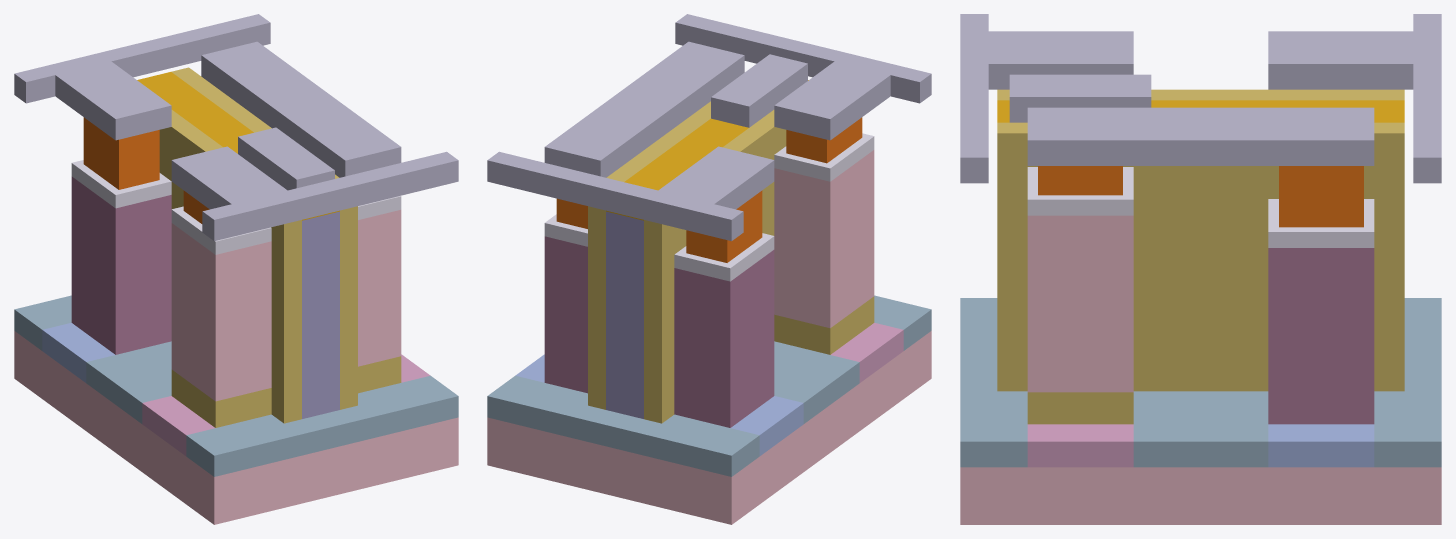
Rendered from inv_ns-sige.obj.
3 renders of one model, left to right at view 1: azimuth 30°, elevation 25°; view 2: azimuth 150°, elevation 25°; view 3: azimuth 270°, elevation 25°, orthographic. The views are drawn at different scales.
Visible parts, largest first — view 1: n_substrate, n_epi_source, p_epi_source, n_sti, m1_vss, m1_vdd, m1_out, n_mo, n_epi_drain, n_spacer_source, p_substrate, p_sti (+14 smaller); view 2: p_substrate, p_epi_source, n_epi_source, p_sti, m1_vdd, m1_vss, m1_out, p_mo, p_epi_drain, p_spacer_source, n_substrate, p_spacer_drain (+15 smaller); view 3: m1_out, n_epi_drain, p_epi_drain, b_spacers, p_spacer_drain, n_spacer_drain, n_sti, p_sti, n_substrate, p_substrate, m1_vdd, m1_vss (+11 smaller).
Part boxes in pixels (x1,y1,x2,y2): n_substrate: (114,404,458,524); n_epi_source: (171,223,271,401); p_epi_source: (71,176,171,354); n_sti: (114,368,458,476); m1_vss: (171,146,458,241); m1_vdd: (14,14,270,140); m1_out: (201,41,401,177); n_mo: (302,211,339,418); n_epi_drain: (358,210,401,366); n_spacer_source: (271,220,301,423); p_substrate: (14,331,114,451); p_sti: (14,295,171,403); p_substrate: (487,404,831,524); p_epi_source: (674,250,774,427); n_epi_source: (774,150,874,328); p_sti: (487,368,831,476); m1_vdd: (487,146,774,241); m1_vss: (675,14,931,140); m1_out: (544,41,744,177); p_mo: (606,211,643,418); p_epi_drain: (544,236,587,393); p_spacer_source: (644,220,686,423); n_substrate: (831,331,931,451); p_spacer_drain: (588,140,674,409); m1_out: (1027,107,1374,165); n_epi_drain: (1027,215,1133,392); p_epi_drain: (1268,248,1374,424); b_spacers: (1163,89,1238,391); p_spacer_drain: (1238,122,1404,391); n_spacer_drain: (997,122,1163,391); n_sti: (960,298,1200,467); p_sti: (1201,298,1441,467); n_substrate: (960,467,1200,524); p_substrate: (1201,467,1441,524); m1_vdd: (1268,14,1441,183); m1_vss: (960,14,1133,183).
Bounding box in the file's own units: 96 × 114 × 136.
